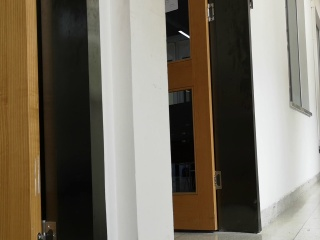room: (1, 1, 114, 238), (163, 2, 270, 237)
